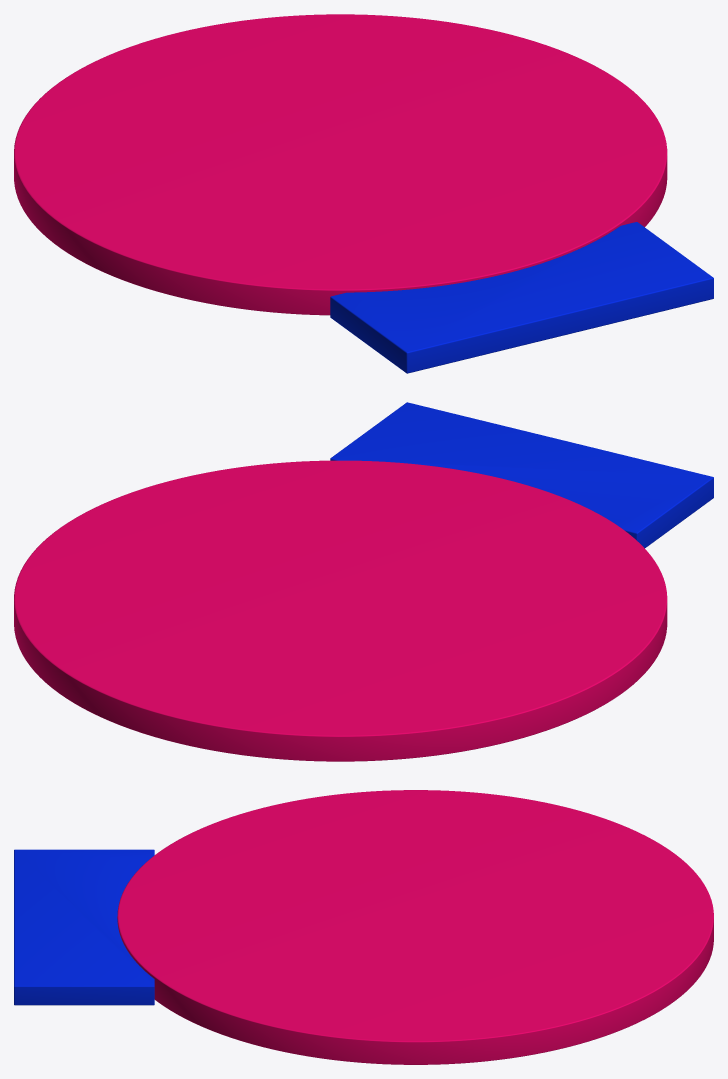
The model's file is circle_diff_platform.fbx.
3 views of the same model, one above another, from view 1: azimuth 30°, elevation 25°; view 2: azimuth 150°, elevation 25°; view 3: azimuth 270°, elevation 25° (orthographic). The views are drawn at different scales.
Parts seen in each view (by area): view 1: Cylinder, Cube; view 2: Cylinder, Cube; view 3: Cylinder, Cube.
Part boxes in pixels (x1=…): Cylinder: x1=14, y1=14, x2=667, y2=315; Cube: x1=330, y1=222, x2=713, y2=373; Cylinder: x1=14, y1=460, x2=667, y2=761; Cube: x1=330, y1=402, x2=713, y2=548; Cylinder: x1=117, y1=790, x2=713, y2=1064; Cube: x1=14, y1=849, x2=154, y2=1005.
Size of the model in its own units: 5518 by 242 by 6477.
